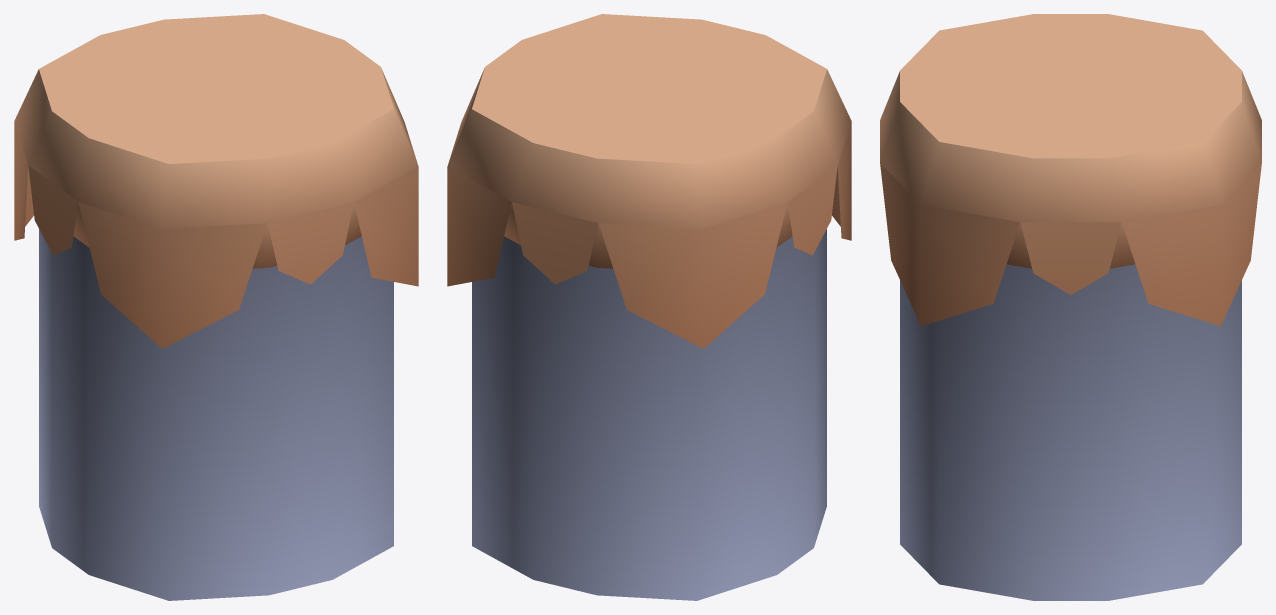
Rendered from block-grass-overhang-narrow.glb.
The picture shows the model from 3 angles, left to right: view 1: azimuth 30°, elevation 25°; view 2: azimuth 150°, elevation 25°; view 3: azimuth 270°, elevation 25°; orthographic projection.
Visible parts, largest first — view 1: block-grass-overhang-narrow; view 2: block-grass-overhang-narrow; view 3: block-grass-overhang-narrow.
Part boxes in pixels (bbox=[...]): block-grass-overhang-narrow: bbox=[14, 14, 418, 600]; block-grass-overhang-narrow: bbox=[447, 14, 851, 600]; block-grass-overhang-narrow: bbox=[880, 14, 1261, 600].
Bounding box in the file's own units: 0.7821 × 1 × 0.7821.
